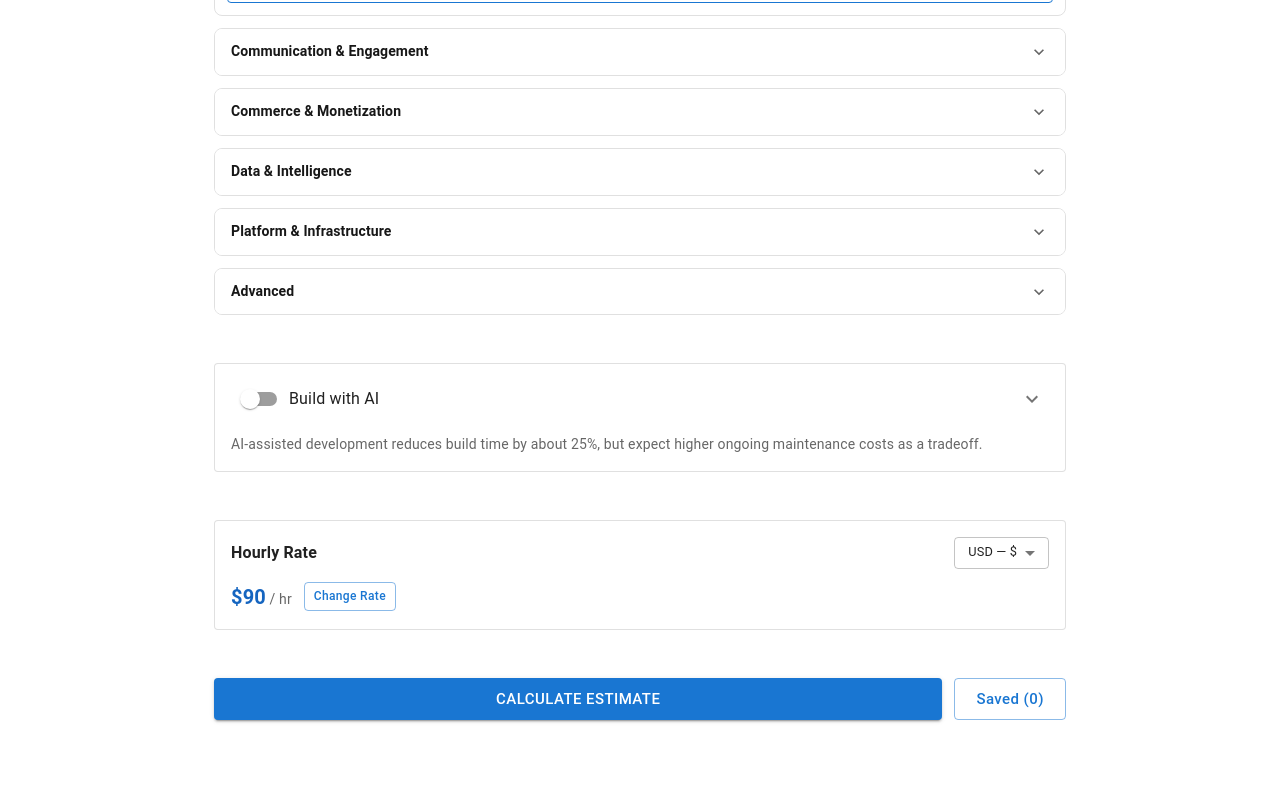
Scenario: CostEstimator › saved estimates drawer (lines 381-411) › clicking the 'Saved' button opens the drawer
(page scrolled)
Step 1. Click the button with test id "saved-btn" → {"x": 1010, "y": 699}, box [954,678,1066,720]
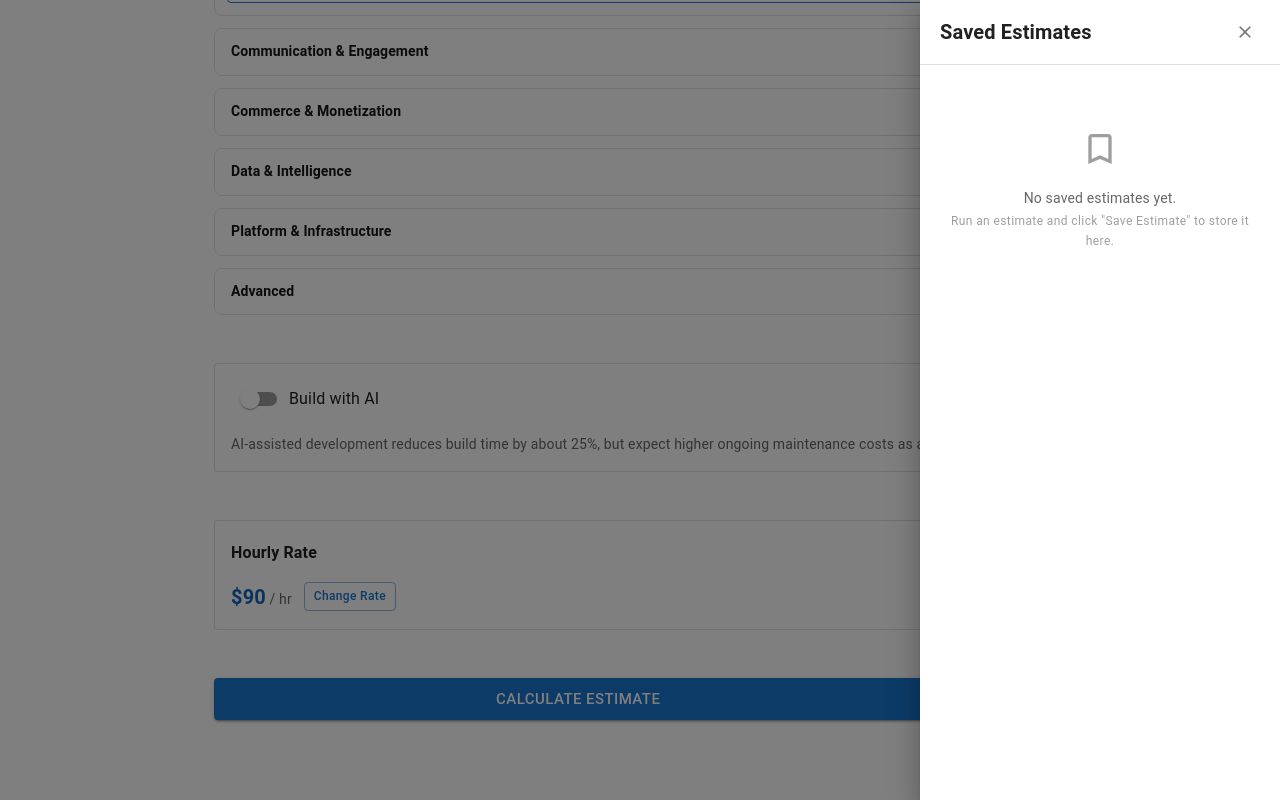
Expected: the heading "Saved Estimates" is shown, [940,16,1092,48]
